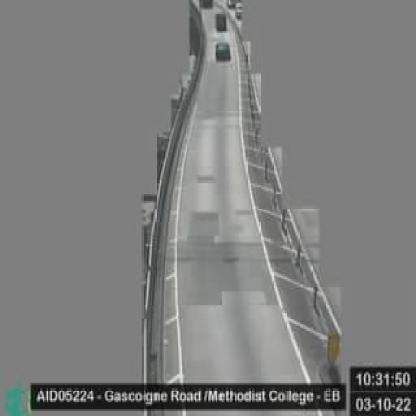Car: (213, 42, 229, 62)
